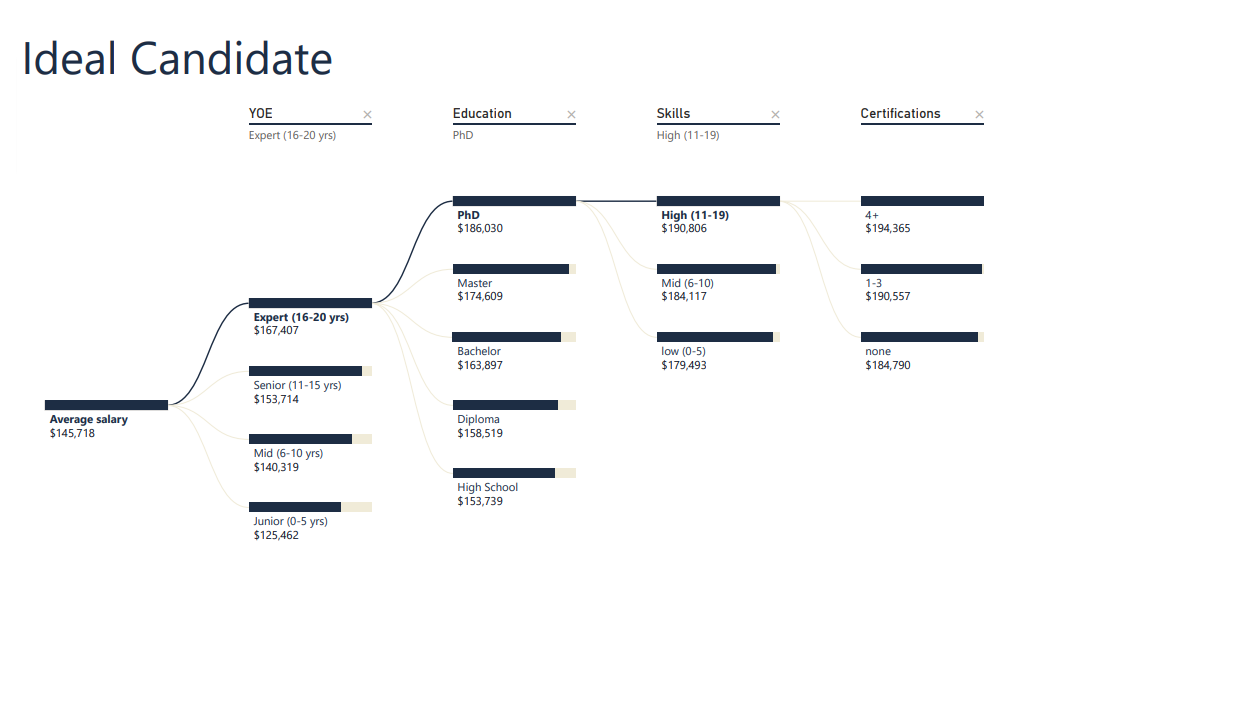

The page's visual inventory and layout, read from the dashboard file:
{"tool":"powerbi","page":{"name":"Candidate profile","canvas":[1280,720],"ordinal":2},"visuals":[{"type":"decompositionTreeVisual","fields":{"Analyze":["Avg(cleaned_jobs_salary.salary)"],"ExplainBy":["cleaned_jobs_salary.Experience Band","cleaned_jobs_salary.education_level","cleaned_jobs_salary.Skills Band","cleaned_jobs_salary.Certification Band"]},"box":[0,74,1280,646],"z":0},{"type":"textbox","box":[0,0,1280,74],"z":1001}]}

Visuals, with their boxes in screenshot pixels (x1, y1, x2, y2), scaled from the page's 1280x720 canvas onto the 1246x719 screenshot:
decompositionTreeVisual - Avg(cleaned_jobs_salary.salary) x cleaned_jobs_salary.Experience Band: [x1=0, y1=74, x2=1245, y2=718]
textbox: [x1=0, y1=0, x2=1245, y2=74]
